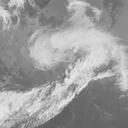cyclone: (30, 33, 95, 86)
